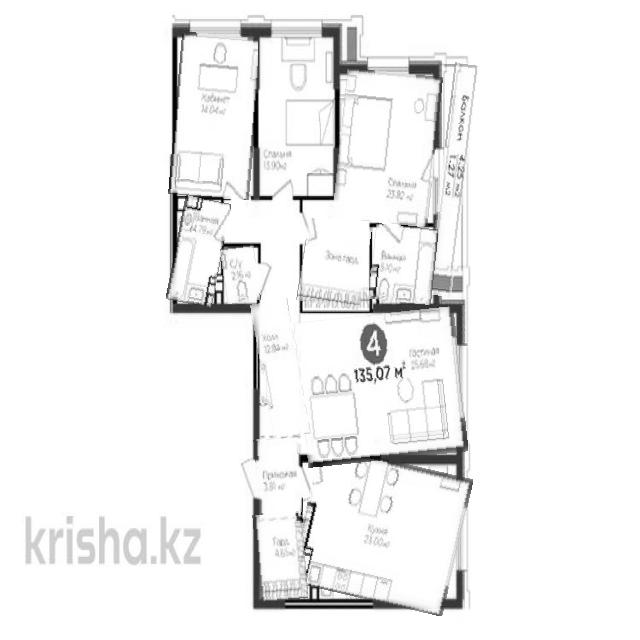balcony: (433, 63, 472, 297)
bathroom: (170, 197, 227, 307), (370, 224, 437, 304), (222, 246, 260, 304)
hallway: (256, 299, 305, 438), (255, 437, 302, 515)
kitchen: (296, 452, 467, 609)
living_room: (297, 310, 464, 464), (336, 70, 440, 225), (172, 32, 259, 198), (258, 36, 336, 196)
other: (299, 220, 369, 308), (254, 512, 307, 601)
